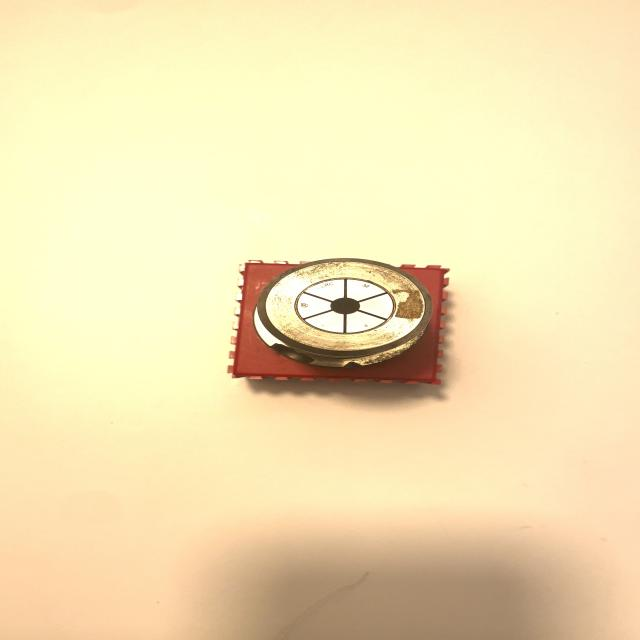Filled_Slot: (252, 258, 432, 368)
